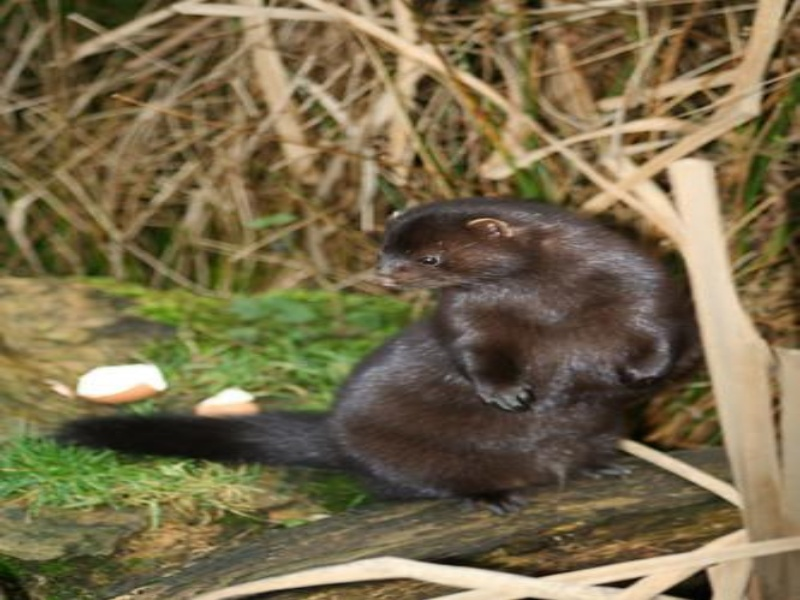minkish: (56, 197, 705, 494)
